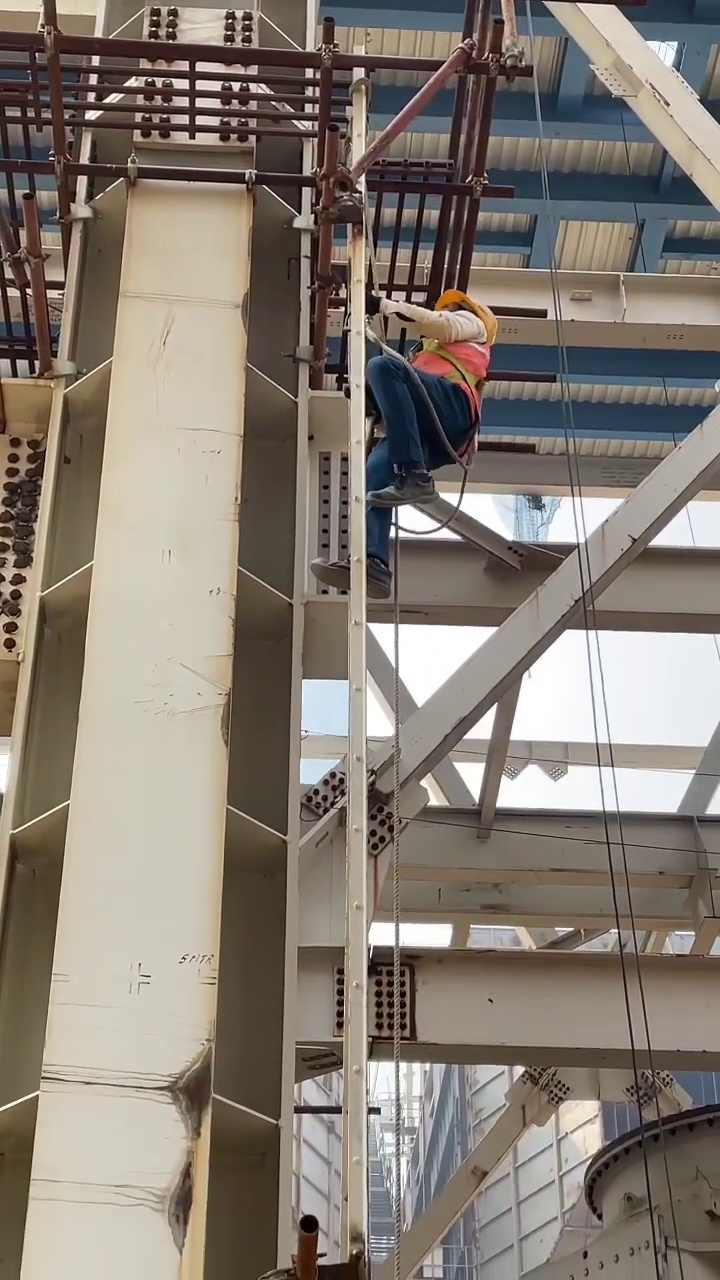Helmet: (437, 288, 496, 334)
Person: (309, 288, 496, 600)
Safety_Harness: (404, 343, 492, 399)
Safety_shoes: (309, 556, 392, 601), (363, 472, 441, 507)
